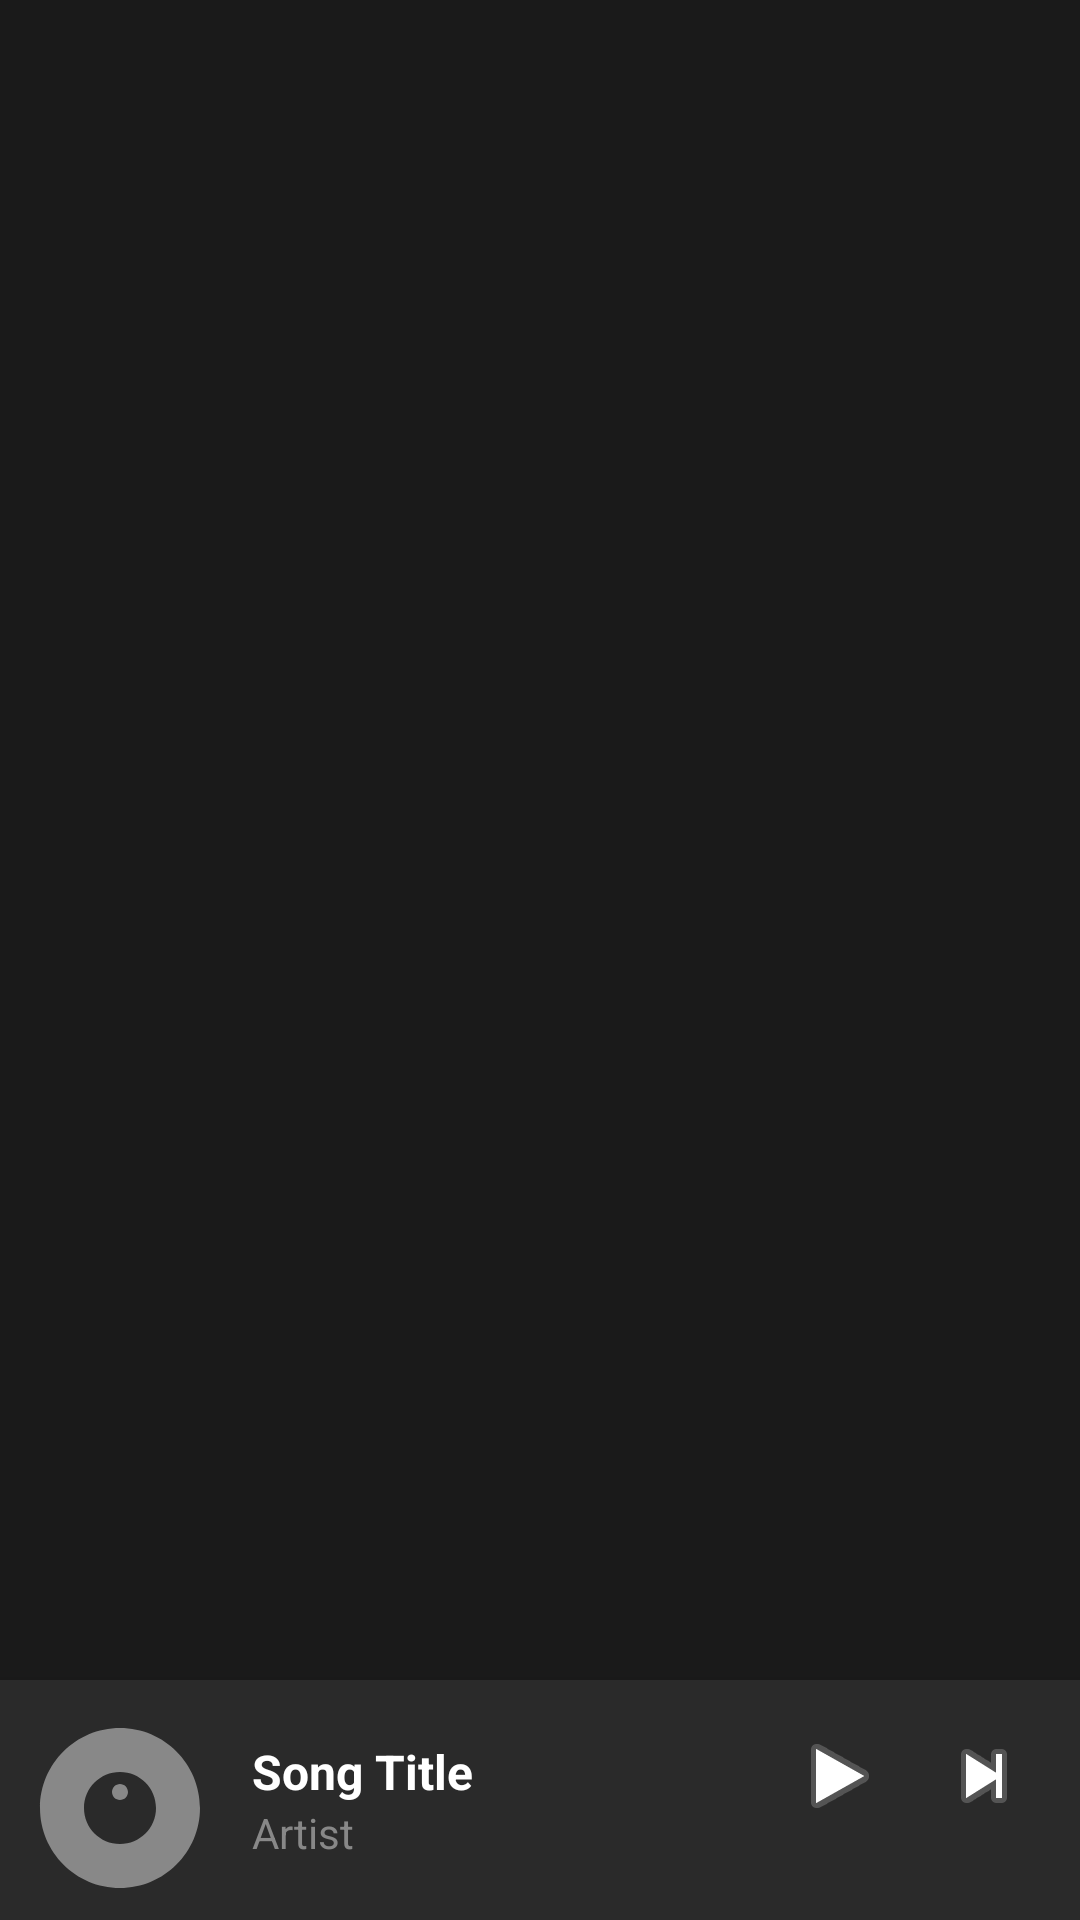

Named icons in this screenshot (1080 × 1920) and their bounding boxes, (x1, y1, x2, y2):
album art: (40, 1728, 200, 1888)
Next: (961, 1749, 1007, 1803)
Play/Pause: (811, 1744, 869, 1808)
